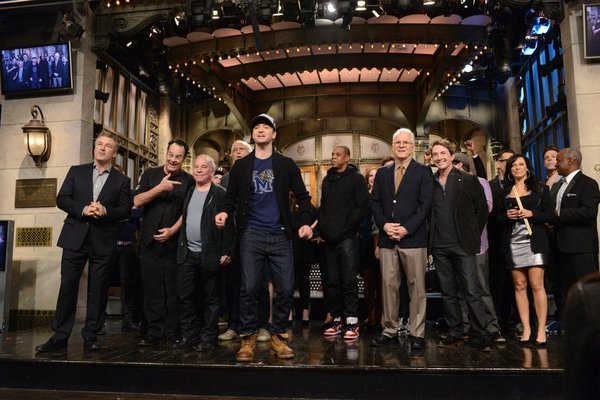25: (540, 146, 558, 171)
33: (248, 115, 275, 145), (496, 148, 517, 178), (552, 149, 569, 176)
37: (209, 170, 224, 188)
41: (427, 141, 452, 171)
44: (507, 154, 527, 178), (327, 143, 345, 168)
52: (90, 131, 117, 163), (161, 141, 185, 174)
56: (365, 167, 380, 187)
59: (228, 139, 248, 162)
63: (389, 128, 414, 160), (189, 154, 212, 184)
Coat: (218, 146, 317, 258), (54, 160, 135, 257), (368, 160, 437, 259), (490, 180, 556, 274), (175, 182, 237, 273), (541, 172, 597, 259)
Dress: (502, 191, 546, 272)
EarRing: (505, 170, 516, 182), (523, 167, 534, 179)
Female: (507, 154, 527, 178), (365, 167, 380, 187)
Glasses: (390, 138, 416, 152)
Jacket: (427, 168, 491, 262), (132, 163, 196, 253)
Jeans: (238, 225, 297, 340), (313, 236, 371, 322)
Joggers: (320, 319, 363, 343), (266, 334, 296, 360), (231, 338, 259, 365)
Male: (90, 131, 117, 163), (248, 115, 275, 145), (389, 128, 414, 160), (161, 141, 185, 174), (427, 141, 452, 171), (189, 154, 212, 184), (496, 148, 517, 178), (228, 139, 248, 162), (552, 149, 569, 176), (327, 143, 345, 168), (540, 146, 558, 171), (209, 170, 224, 188)
P-Cap: (244, 113, 285, 136)
Pants: (52, 221, 116, 336), (425, 245, 493, 341), (134, 247, 189, 339), (375, 248, 429, 339), (172, 251, 223, 343), (545, 253, 595, 341), (454, 247, 497, 338), (118, 245, 145, 320)
Shirt: (550, 170, 581, 219)
Shoes: (33, 332, 72, 355), (515, 328, 551, 350), (371, 331, 401, 349), (192, 337, 223, 354), (486, 328, 511, 349), (435, 336, 468, 351), (119, 319, 144, 338), (81, 335, 105, 354), (407, 334, 430, 352), (476, 337, 496, 357), (217, 328, 242, 343), (255, 328, 273, 343), (300, 309, 312, 328)
T-shirt: (246, 151, 288, 240), (84, 161, 115, 206)
Tie: (391, 161, 408, 201)
Upper: (309, 165, 374, 250), (428, 170, 465, 256)
